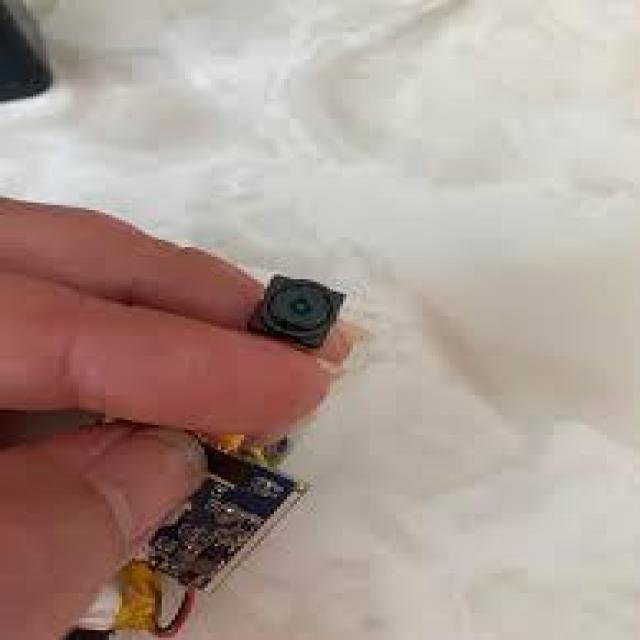hidden camera: (259, 274, 339, 344)
